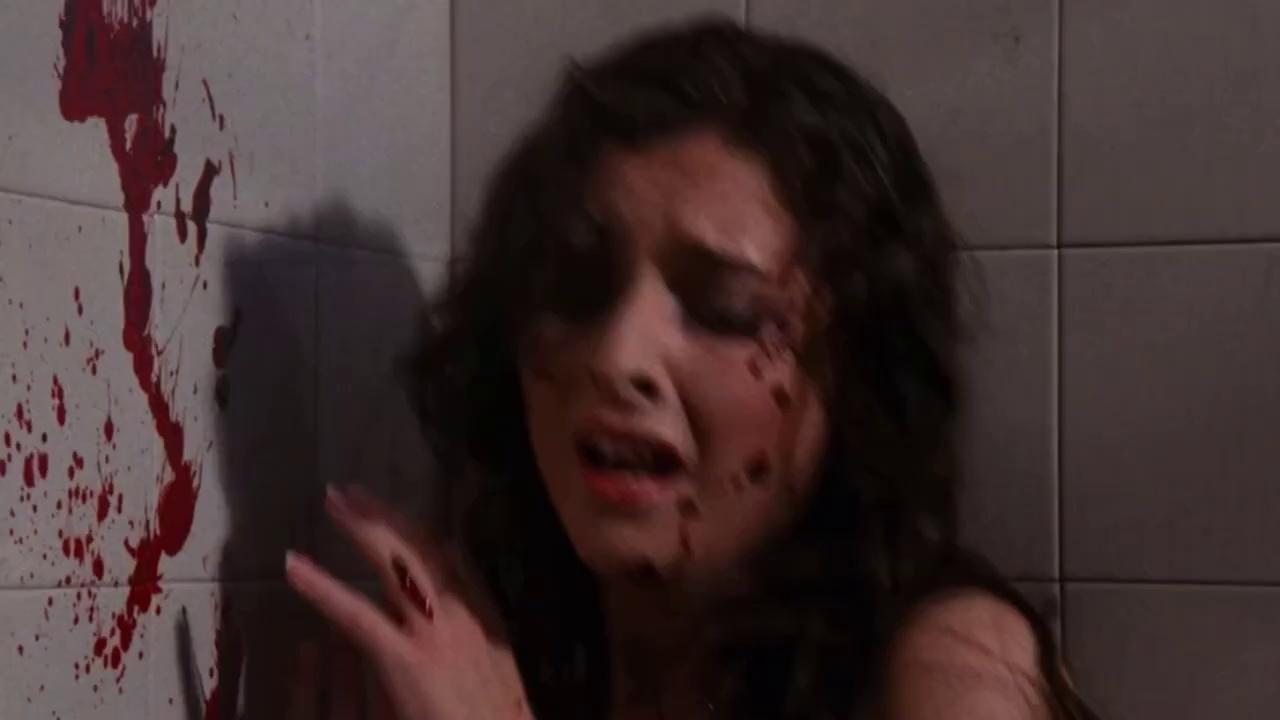Fire: (597, 140, 830, 596), (57, 0, 197, 668), (0, 211, 163, 680), (188, 156, 220, 264), (391, 557, 423, 608)
